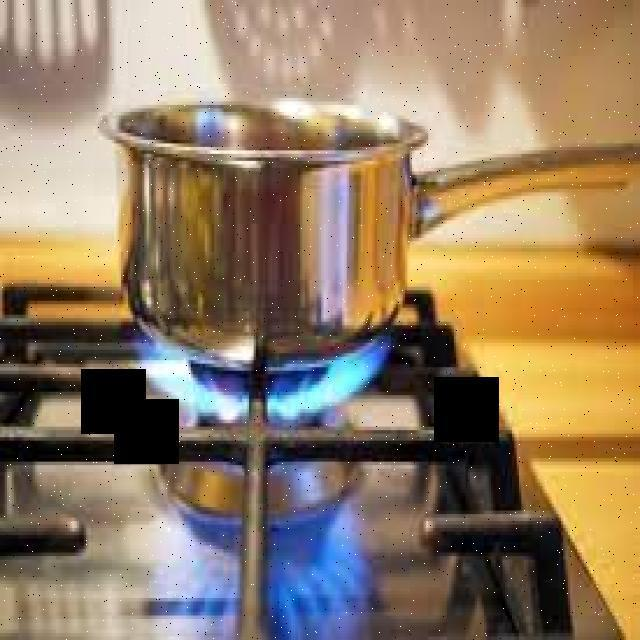Flame: (140, 353, 413, 440)
Pan: (100, 93, 456, 385)
